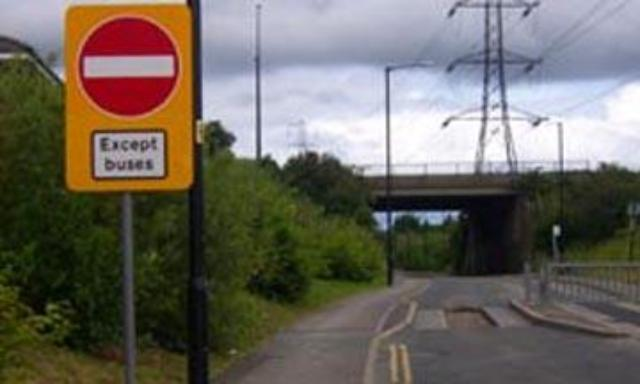B2: (80, 16, 182, 121)
